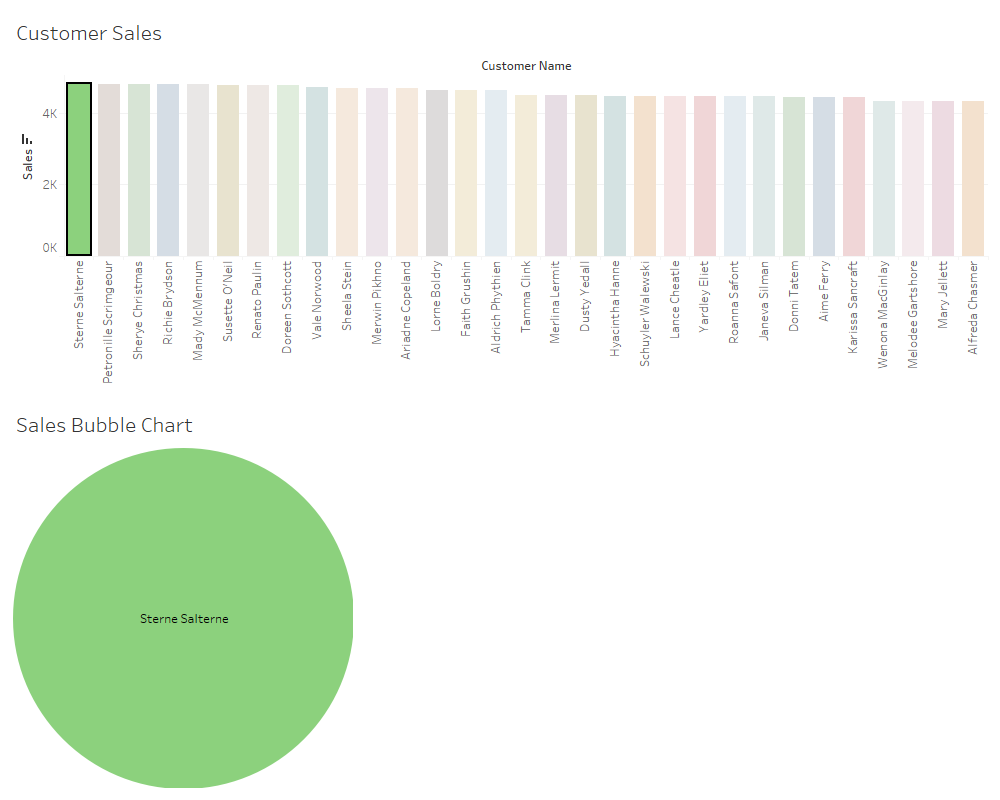

The page's visual inventory and layout, read from the dashboard file:
{"tool":"tableau","page":{"name":"Task 5","canvas":[1000,800],"ordinal":0},"visuals":[{"type":"worksheet","title":"Customer Sales","mark":"Bar","rows":["Sales"],"cols":["Customer Name"],"box":[8,8,984,392]},{"type":"worksheet","title":"Sales Bubble Chart","mark":"Circle","box":[8,400,984,392]}]}

Visuals, with their boxes in screenshot pixels (x1, y1, x2, y2), scaled from the page's 1000x800 canvas onto the 1000x800 screenshot:
"Customer Sales" worksheet (Bar marks): pyautogui.locateOnScreen(8, 8, 992, 400)
"Sales Bubble Chart" worksheet (Circle marks): pyautogui.locateOnScreen(8, 400, 992, 792)
